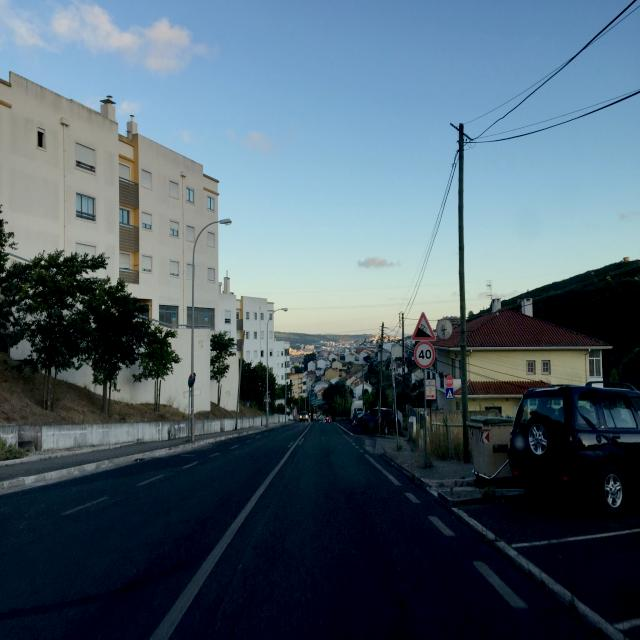car: (507, 383, 640, 517), (361, 406, 403, 436), (298, 411, 310, 423)
